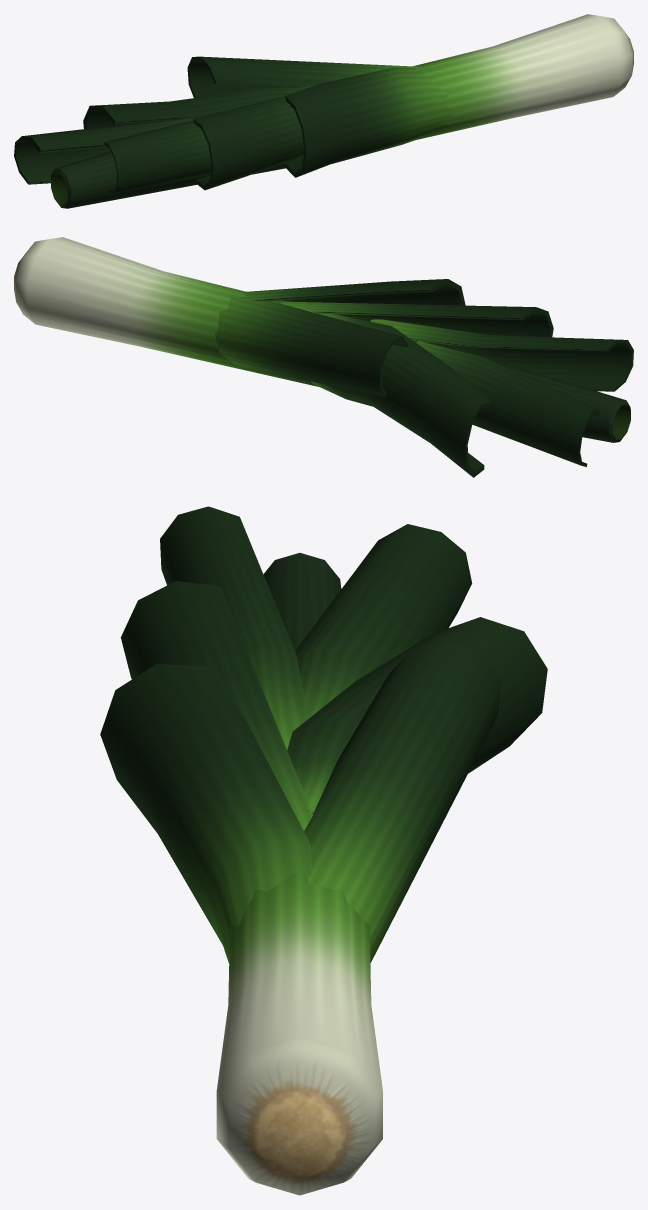
The model's file is Leek_01.fbx.
The picture shows the model from 3 angles, top to bottom: view 1: azimuth 30°, elevation 25°; view 2: azimuth 150°, elevation 25°; view 3: azimuth 270°, elevation 25°; orthographic projection. The views are drawn at different scales.
Visible parts, largest first — view 1: Leek_01; view 2: Leek_01; view 3: Leek_01.
Boxes of the visible parts, box(x1,y1,x2,y2) form: Leek_01: box(14, 14, 633, 208); Leek_01: box(14, 237, 633, 477); Leek_01: box(100, 506, 547, 1195).
Bounding box in the file's own units: 124 × 20.81 × 42.3.
